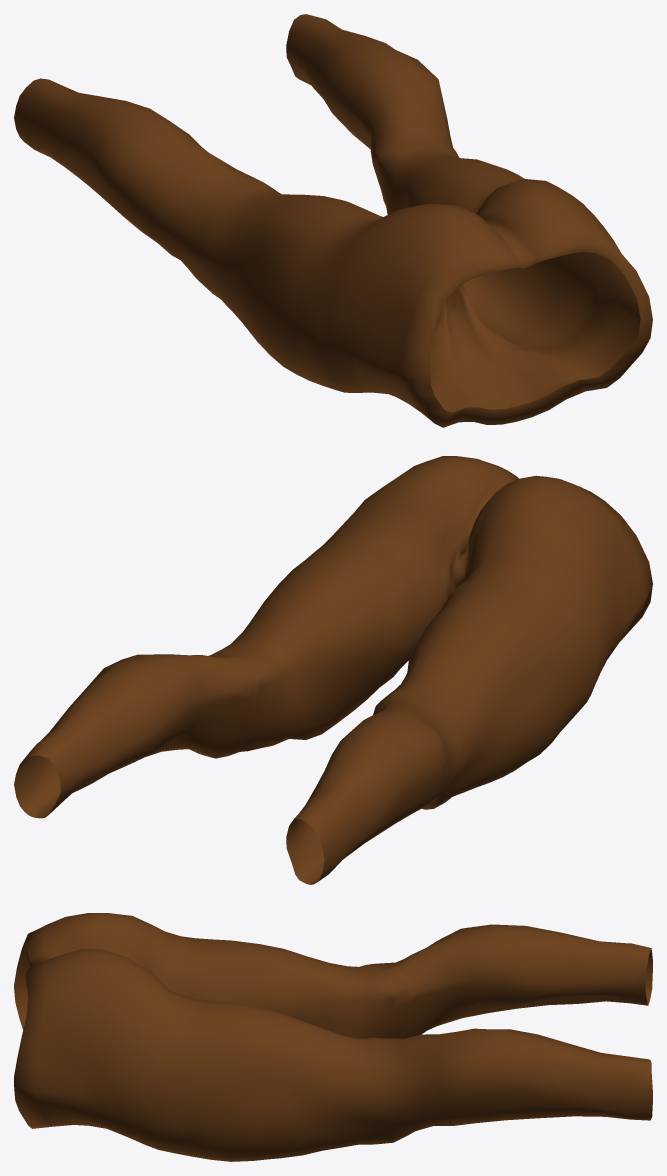
File: Female01.fbx
The picture shows the model from 3 angles, top to bottom: view 1: azimuth 30°, elevation 25°; view 2: azimuth 150°, elevation 25°; view 3: azimuth 270°, elevation 25°; orthographic projection. The views are drawn at different scales.
Parts seen in each view (by area): view 1: Pants; view 2: Pants; view 3: Pants.
Boxes of the visible parts, x1,y1,x2,y2 form: Pants: (14,14,652,427); Pants: (14,456,652,884); Pants: (14,913,652,1161).
Size of the model in its own units: 64.15 by 38.32 by 122.
